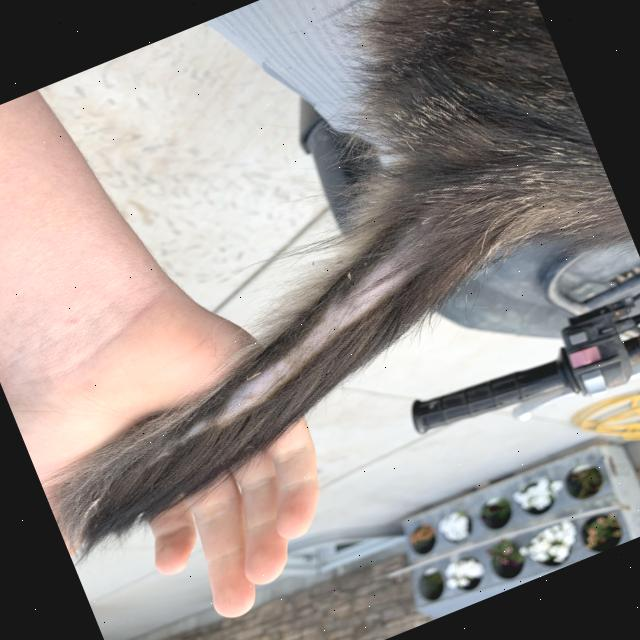cat-hairloss: (180, 373, 279, 437), (272, 331, 340, 373), (332, 282, 388, 321)
